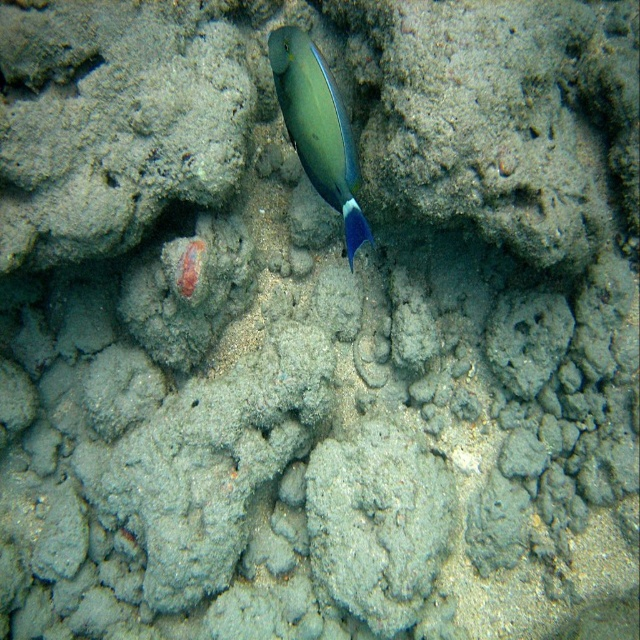Fish: (266, 25, 375, 277)
